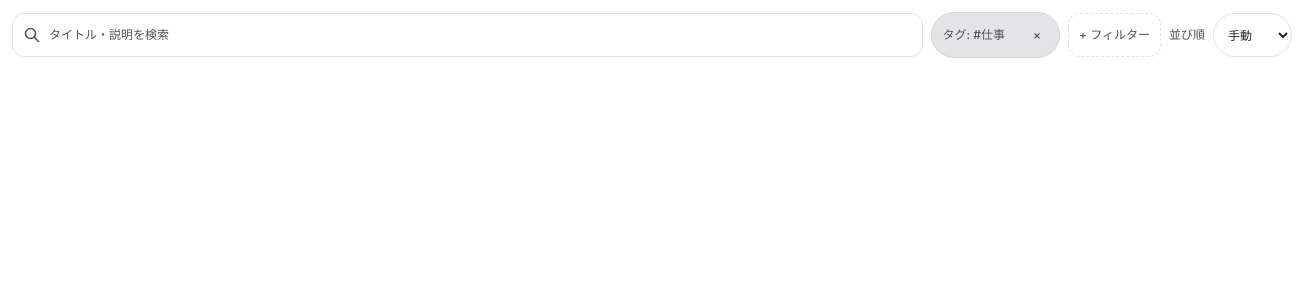
Test: TodoFilterBar › 選択済み属性 ["tagId"] をフィルターメニューから除外する
The image size is (1304, 294).
Click the button with aria-label "フィルターを追加".
click(1114, 35)  # box [1068,13,1161,57]
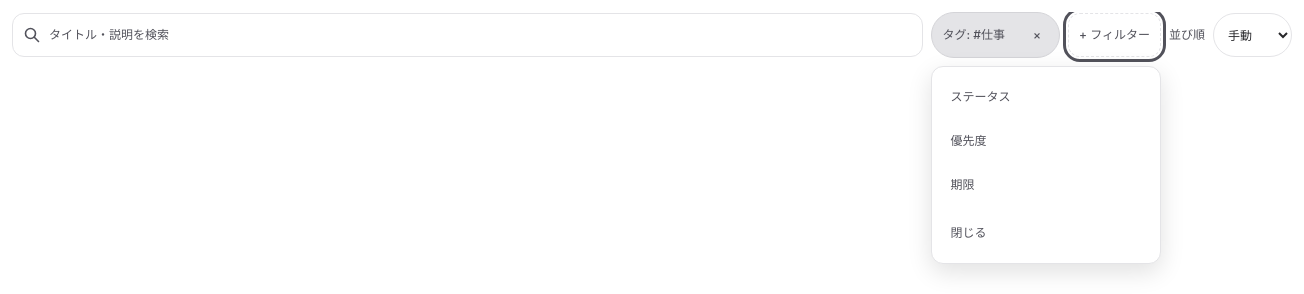
expect the menu item "ステータス" is shown: met, box [940,75,1152,119]
expect the menu item "優先度" is shown: met, box [940,119,1152,163]
expect the menu item "期限" is shown: met, box [940,163,1152,207]
